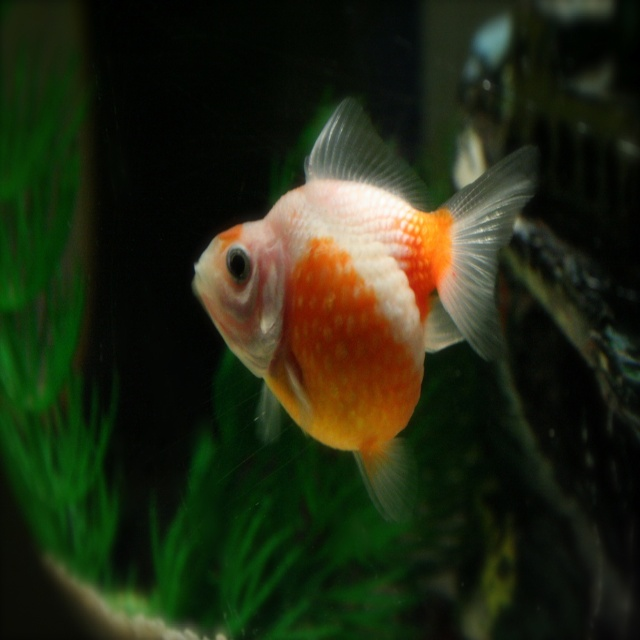Goldfish: (187, 96, 524, 533)
